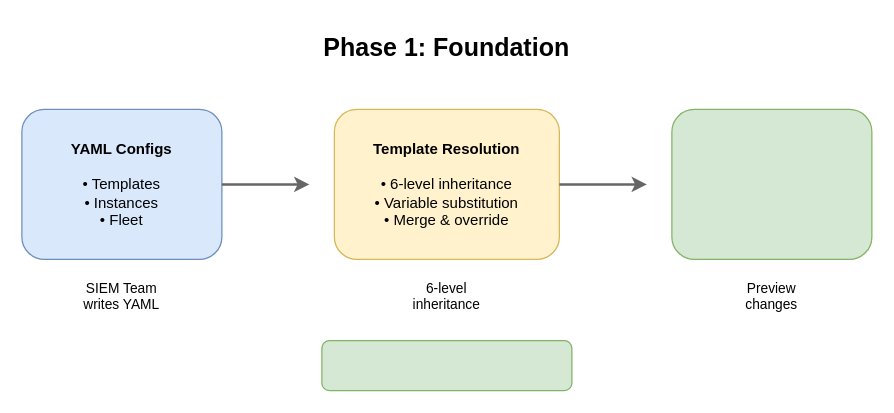
Image size: 894x413. Some labels were removed from this diagram. The centre of each missing label's shape, as x and y in pixels:
"PLAN (Preview) • Preview changes • Export JSON payload • Validate config" belongs at (771,183).
"✅ CURRENT" belongs at (446,365).
